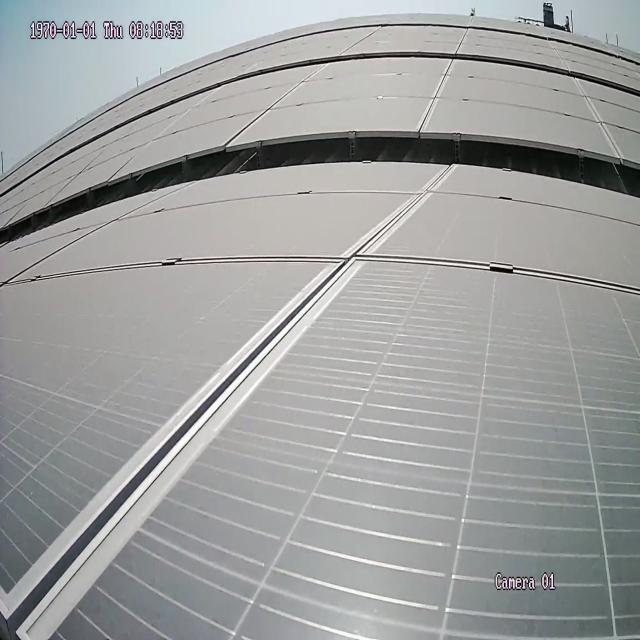interior panel: (0, 173, 640, 638), (231, 73, 322, 133), (572, 86, 624, 148), (419, 69, 452, 128)
outher panel: (1, 133, 640, 246)
